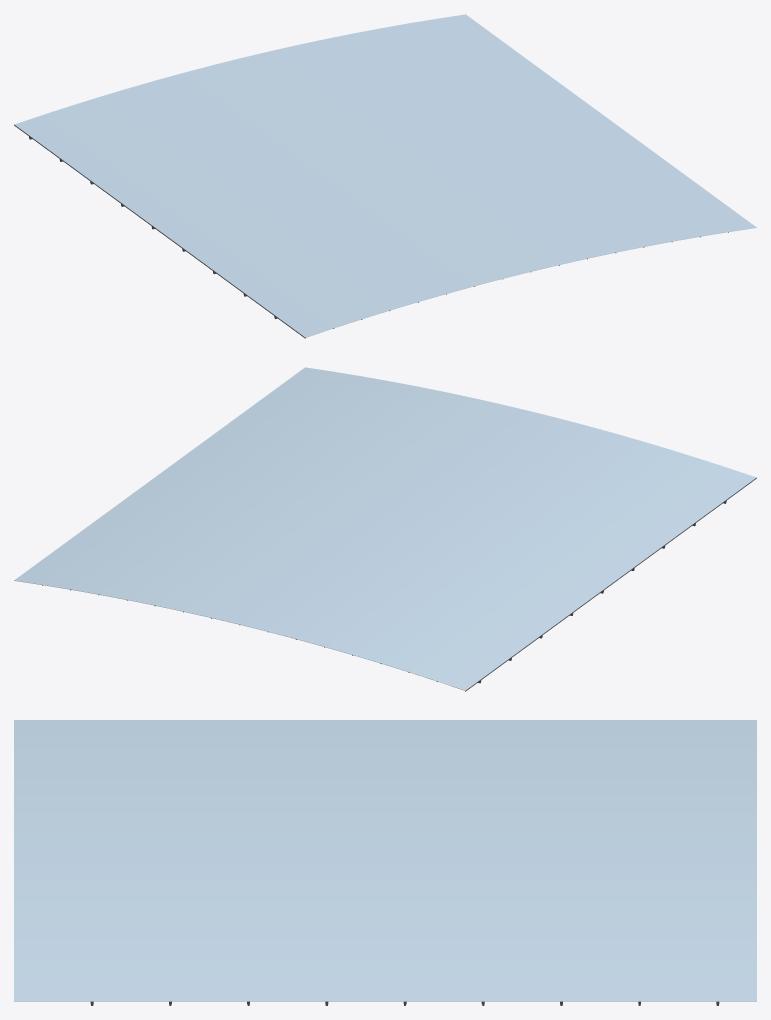
File: kr_hall_roof.glb
3 renders of one model, top to bottom at view 1: azimuth 30°, elevation 25°; view 2: azimuth 150°, elevation 25°; view 3: azimuth 270°, elevation 25°, orthographic. The views are drawn at different scales.
Visible parts, largest first — view 1: kr_hall_roof_sky, vc_m8_r4; view 2: kr_hall_roof_sky, vc_m8_r4; view 3: kr_hall_roof_sky.
Part boxes in pixels (x1=…): kr_hall_roof_sky: x1=14, y1=14, x2=756, y2=337; vc_m8_r4: x1=14, y1=124, x2=728, y2=338; kr_hall_roof_sky: x1=14, y1=367, x2=756, y2=690; vc_m8_r4: x1=42, y1=477, x2=756, y2=691; kr_hall_roof_sky: x1=14, y1=720, x2=756, y2=1001.
Bounding box in the file's own units: 68.1 × 2.13 × 76.
